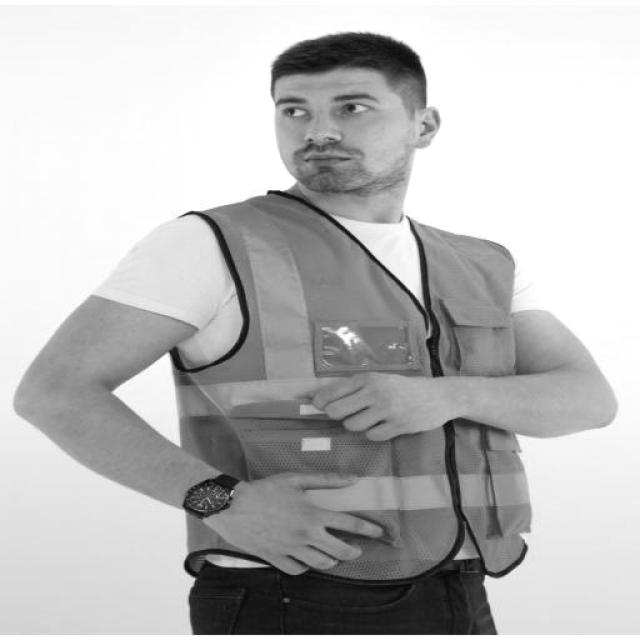face_nomask: (270, 76, 394, 184)
hand_noglove: (220, 467, 384, 585), (300, 364, 434, 447)
head_nohelmet: (262, 29, 436, 90)
person: (16, 21, 625, 627)
vest: (173, 190, 526, 578)
